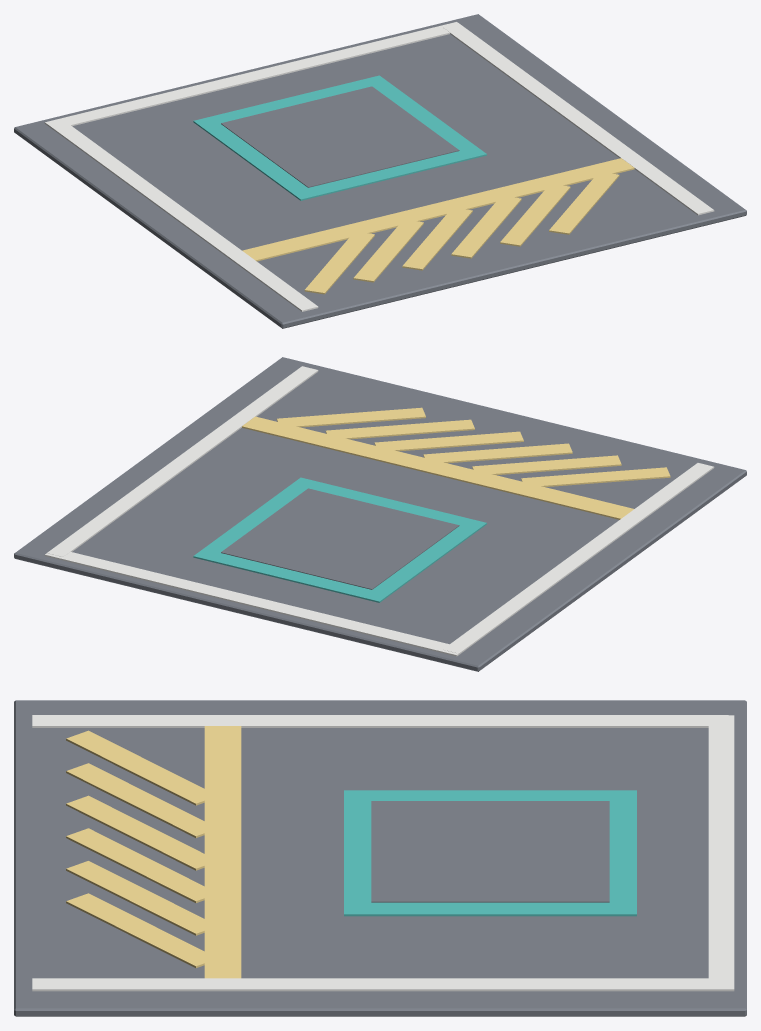
The model's file is hospital-wards-and-clinic-operations-bay-markings-tile-75ed5b74__23655.glb.
The picture shows the model from 3 angles, top to bottom: view 1: azimuth 30°, elevation 25°; view 2: azimuth 150°, elevation 25°; view 3: azimuth 270°, elevation 25°; orthographic projection. The views are drawn at different scales.
Visible parts, largest first — view 1: bay-markings-tile; view 2: bay-markings-tile; view 3: bay-markings-tile.
Part boxes in pixels (x1,y1,x2,y2): bay-markings-tile: (14, 14, 746, 328); bay-markings-tile: (14, 357, 746, 671); bay-markings-tile: (14, 700, 746, 1016).
Bounding box in the file's own units: 4 × 0.0679 × 4.
